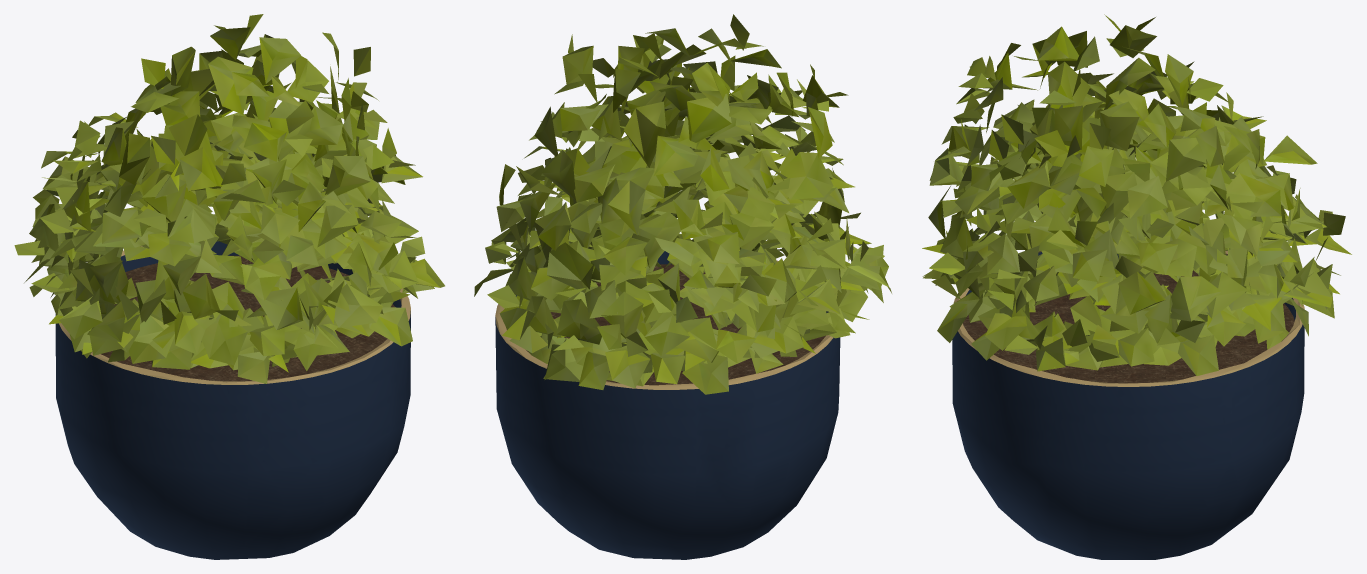
The model's file is SM_Plant_3.fbx.
3 renders of one model, left to right at view 1: azimuth 30°, elevation 25°; view 2: azimuth 150°, elevation 25°; view 3: azimuth 270°, elevation 25°, orthographic. The views are drawn at different scales.
Parts seen in each view (by area): view 1: SM_Plant_3; view 2: SM_Plant_3; view 3: SM_Plant_3.
Boxes of the visible parts, box(x1,y1,x2,y2) form: SM_Plant_3: box(14, 14, 444, 559); SM_Plant_3: box(474, 14, 891, 559); SM_Plant_3: box(922, 14, 1351, 559).
Bounding box in the file's own units: 0.1531 × 0.1904 × 0.1537.
Materials: 5 (5 with a texture image).
